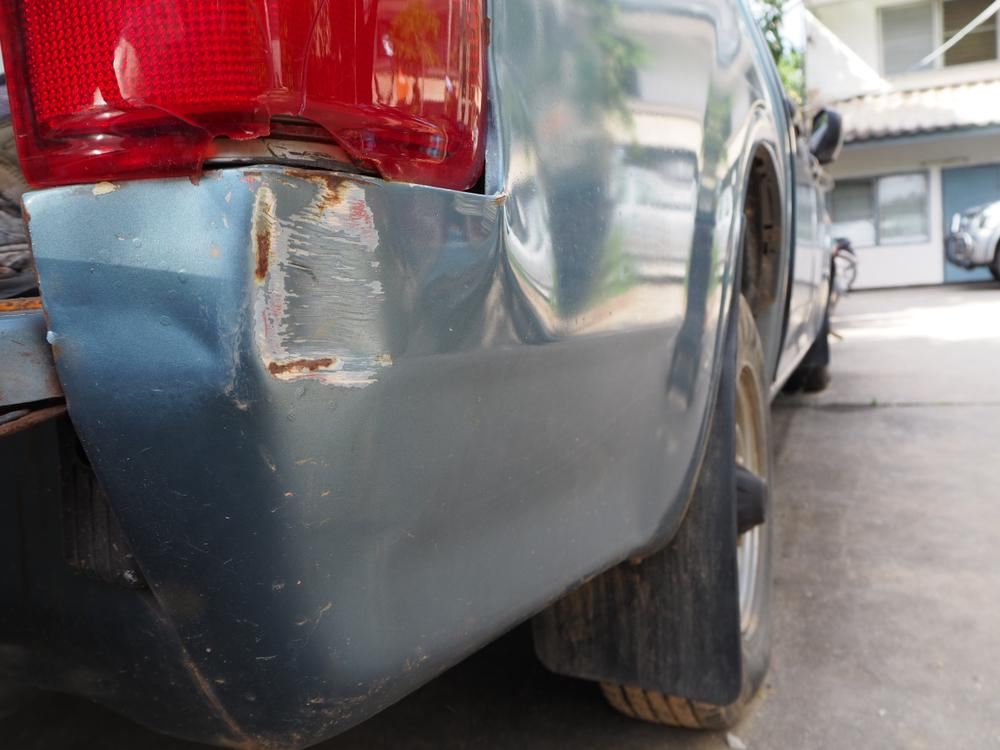dent: (51, 187, 244, 381), (502, 1, 605, 334)
lamp broken: (0, 0, 489, 193)
scratch: (247, 176, 386, 390)
